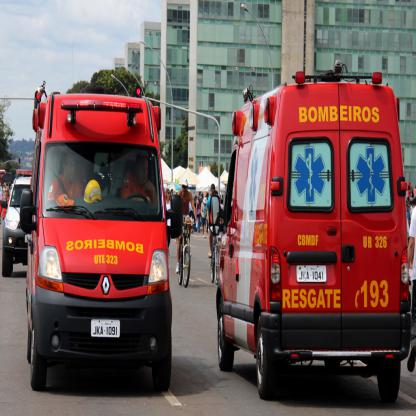Ambulance: (209, 58, 412, 401), (20, 76, 174, 392)
Truck: (18, 83, 169, 396)
